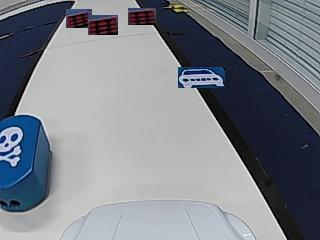danger: (0, 127, 21, 167)
